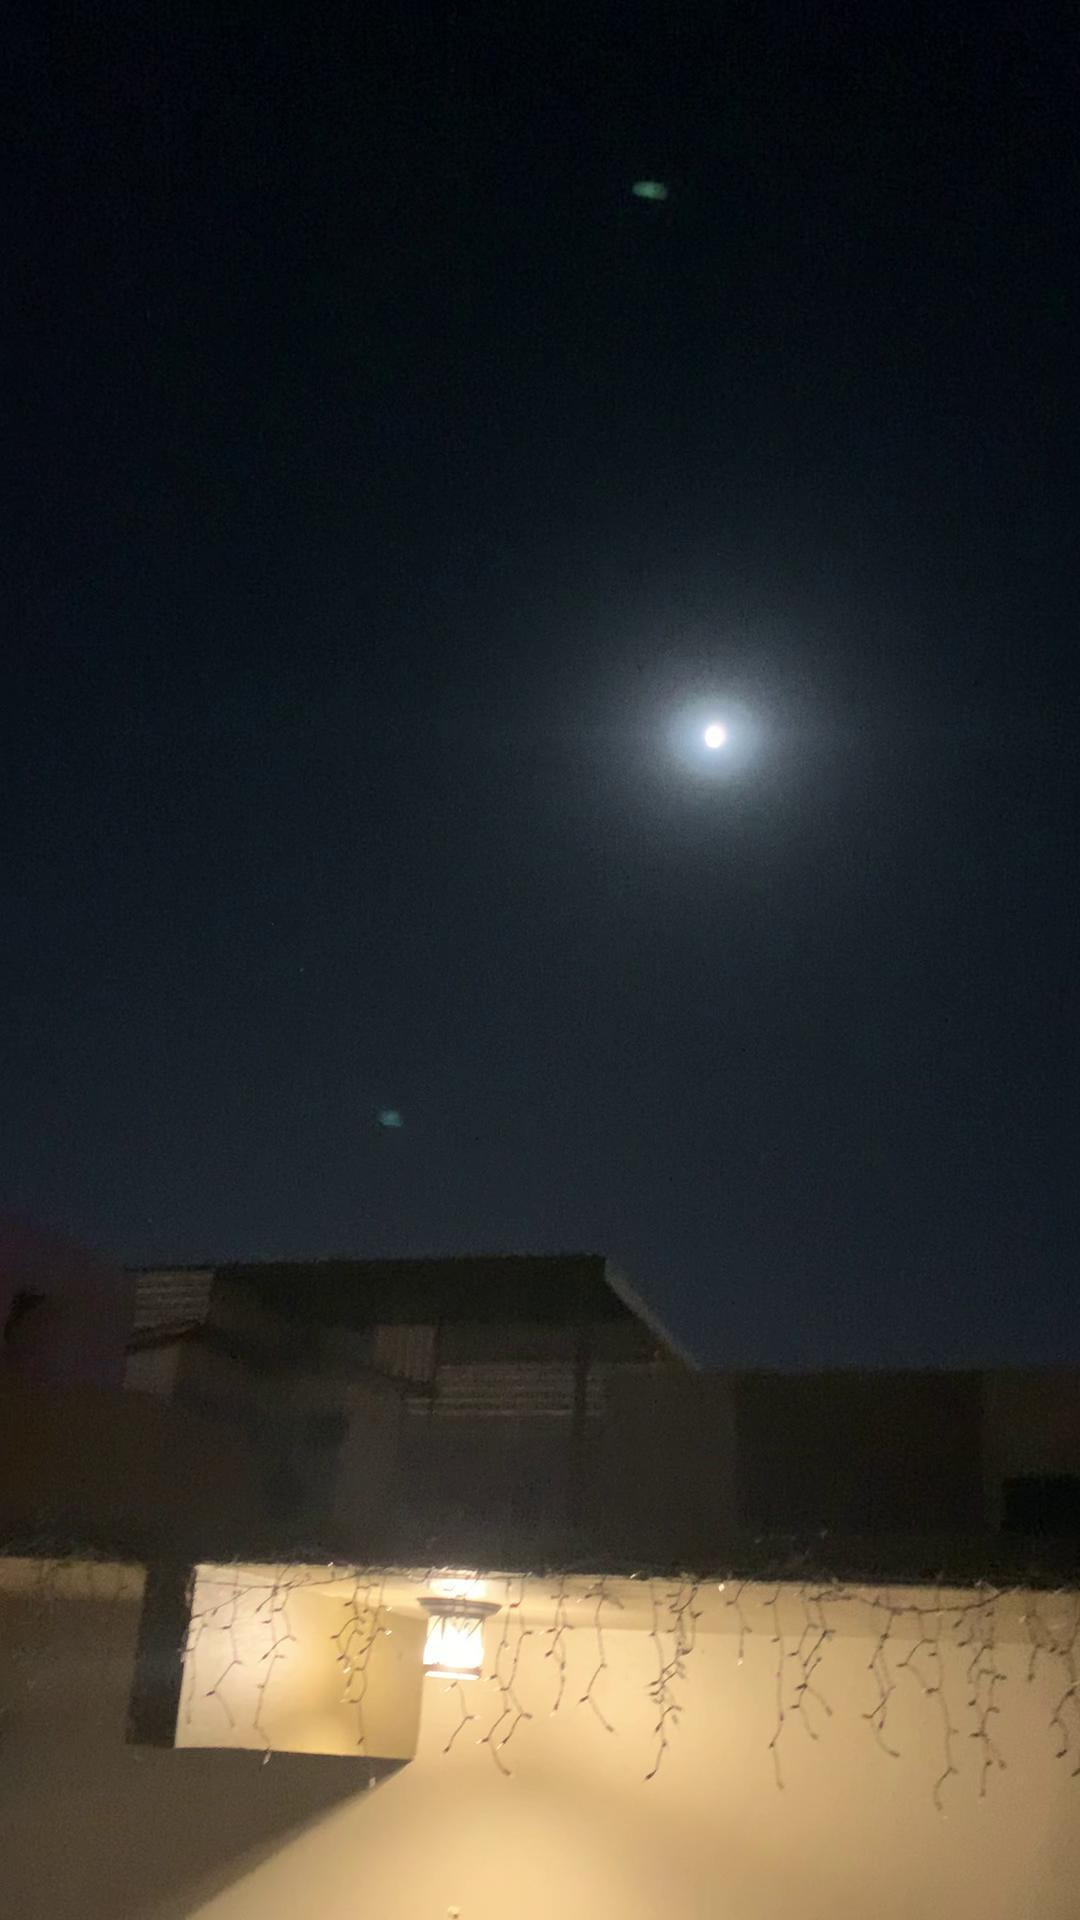moon: (673, 698, 760, 777)
